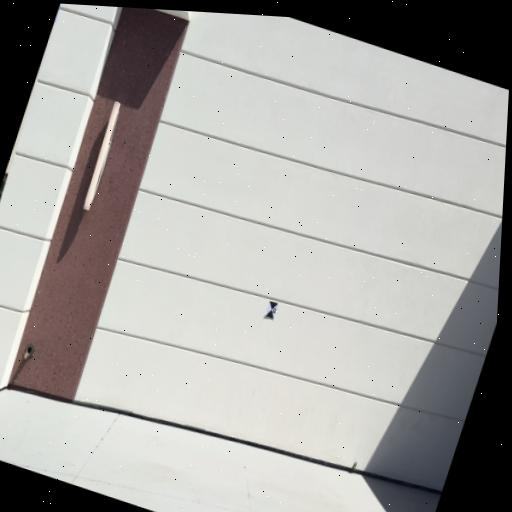target0: (263, 300, 279, 320)
